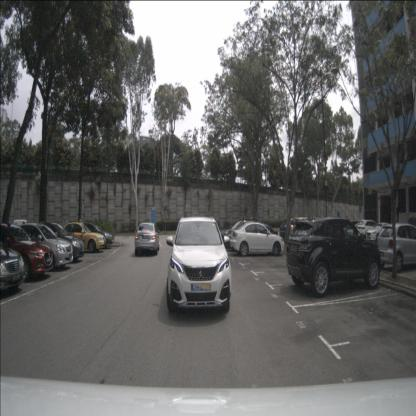human-pedestrian-adult: (396, 203, 400, 224)
vehicle-car: (286, 216, 382, 298), (167, 216, 231, 312), (0, 221, 55, 282), (14, 221, 74, 271), (28, 220, 85, 263), (376, 222, 416, 274), (230, 220, 286, 257), (220, 218, 278, 250), (60, 221, 106, 254), (0, 238, 25, 298), (68, 220, 113, 250), (366, 222, 404, 247), (135, 222, 159, 258), (280, 217, 312, 243), (356, 219, 384, 240)
